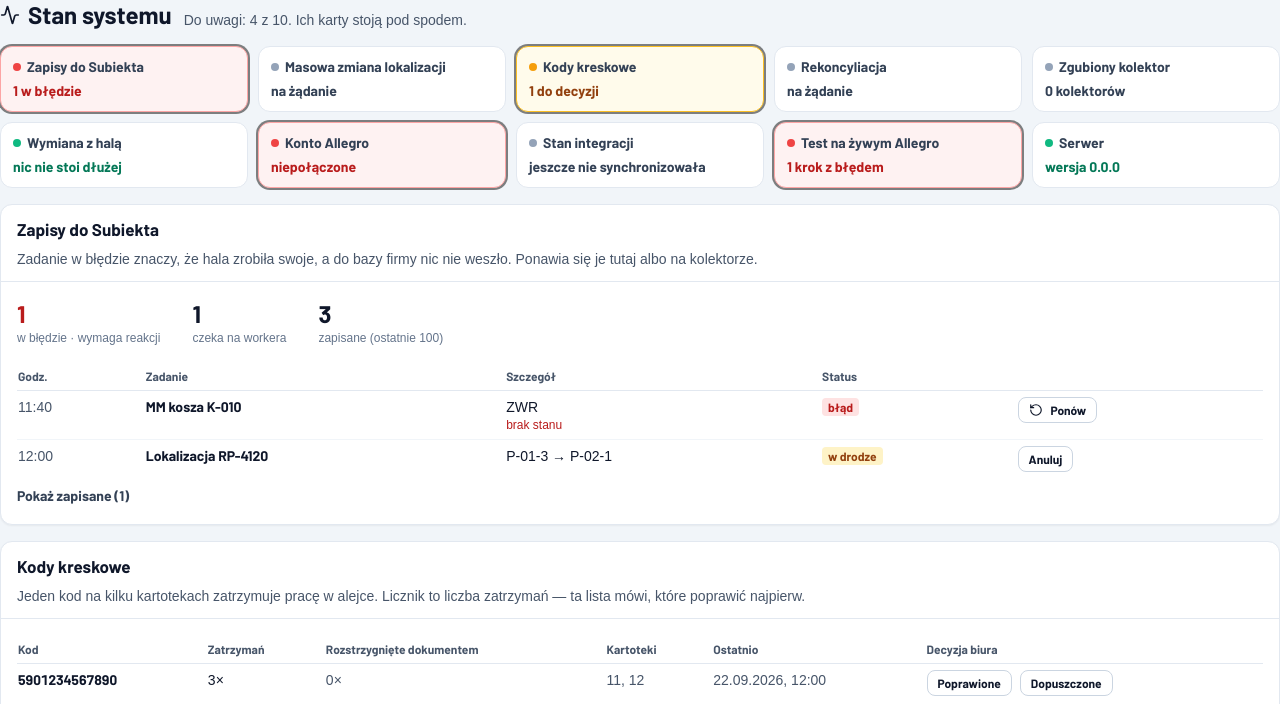
it: Stan systemu w panelu › kolejka chowa „zapisane” pod przyciskiem — ruchu wymagają błąd i oczekujące
Check: the text "MM kosza K-010" is shown, box left=145, top=390, right=505, bottom=440
Check: the text "Lokalizacja RP-9" is not shown
Step 1. Click the button "Pokaż zapisane (1)" → {"x": 73, "y": 496}, box left=17, top=486, right=129, bottom=506
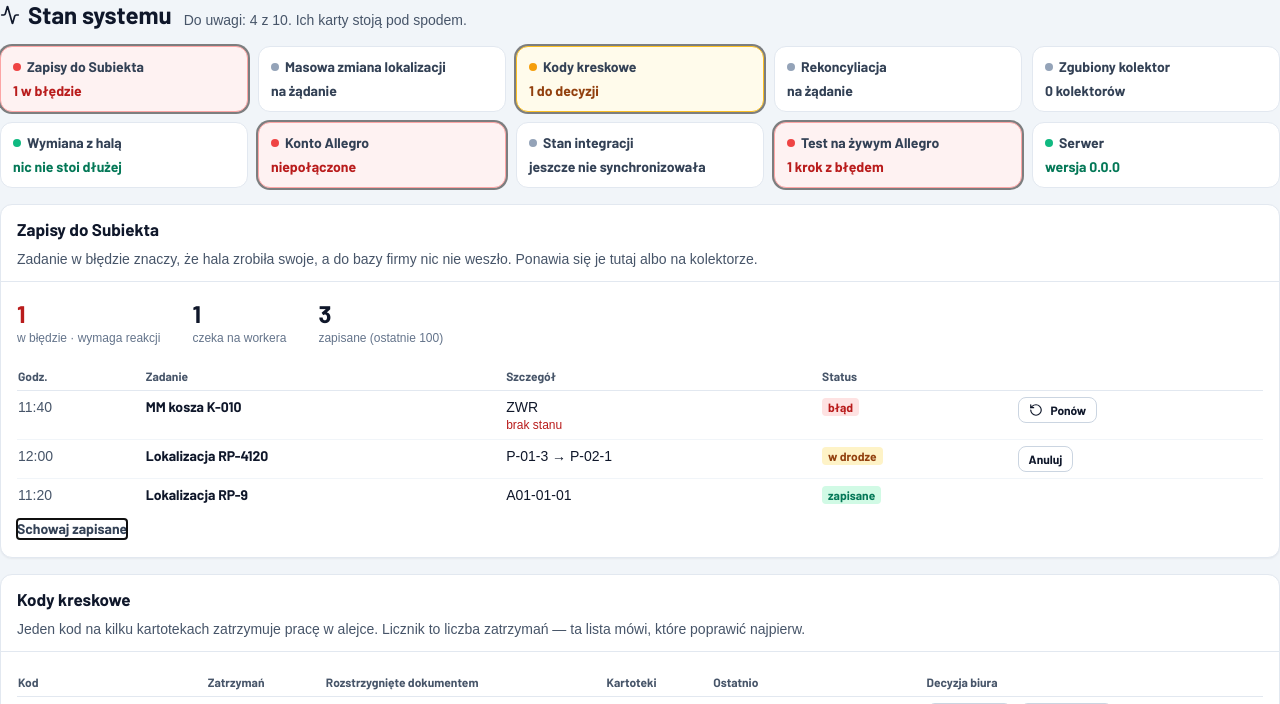
Check: the text "Lokalizacja RP-9" is shown, box left=145, top=478, right=505, bottom=511
